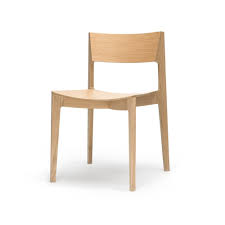tiyarina: (43, 27, 187, 201)
